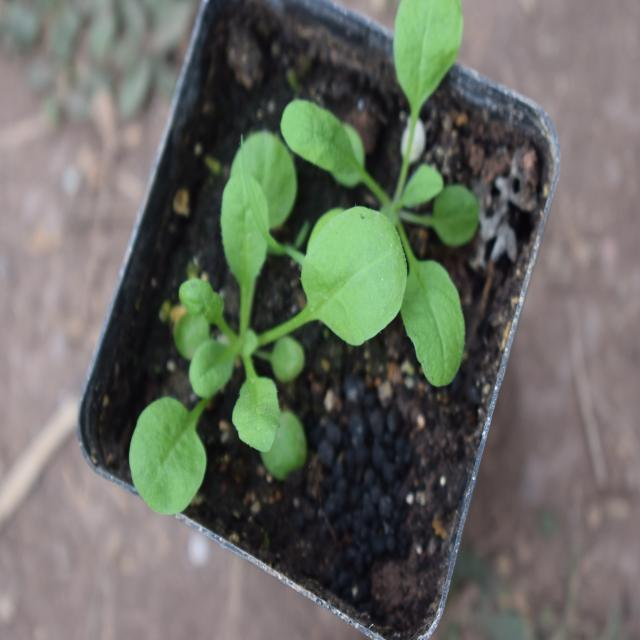Shepherd_Purse: (110, 160, 403, 510), (302, 0, 487, 378)
